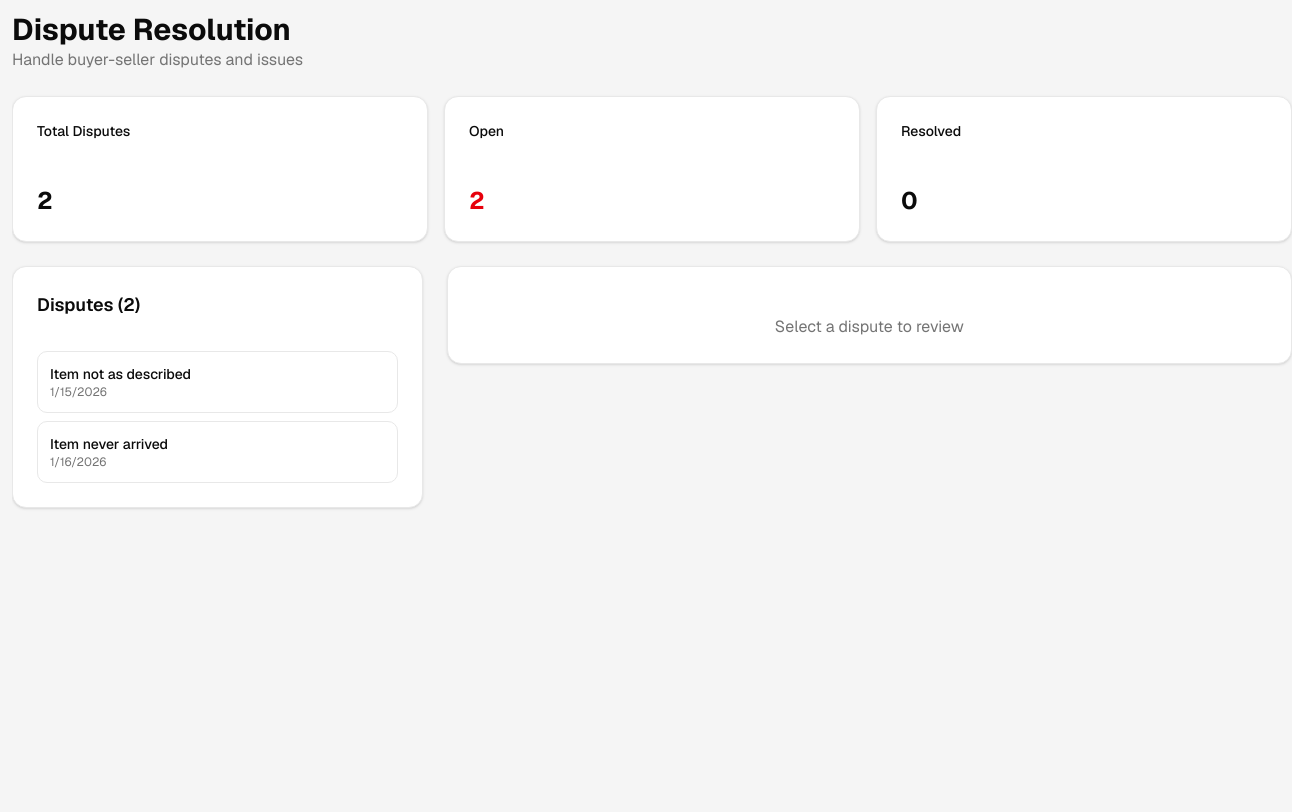
DisputesPage › Test Case 4: Resolves disputes and refreshes list › should resolve dispute and refresh the list
Later steps or results of the test are not shown.
Select a dispute
Click the text "Item not as described". click: (121, 374)
box: [50,365,191,383]
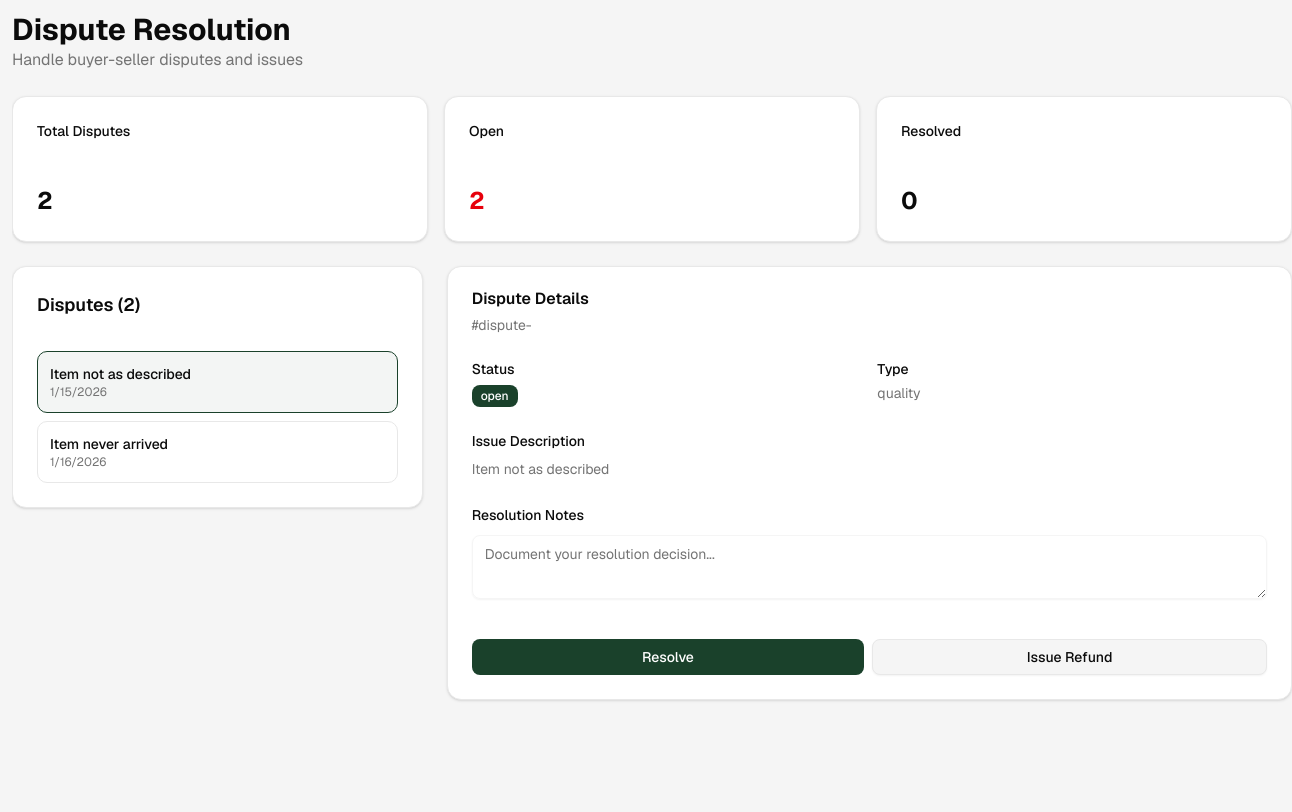
Expected: the text "Dispute Details" is shown, [472,288,589,309]
